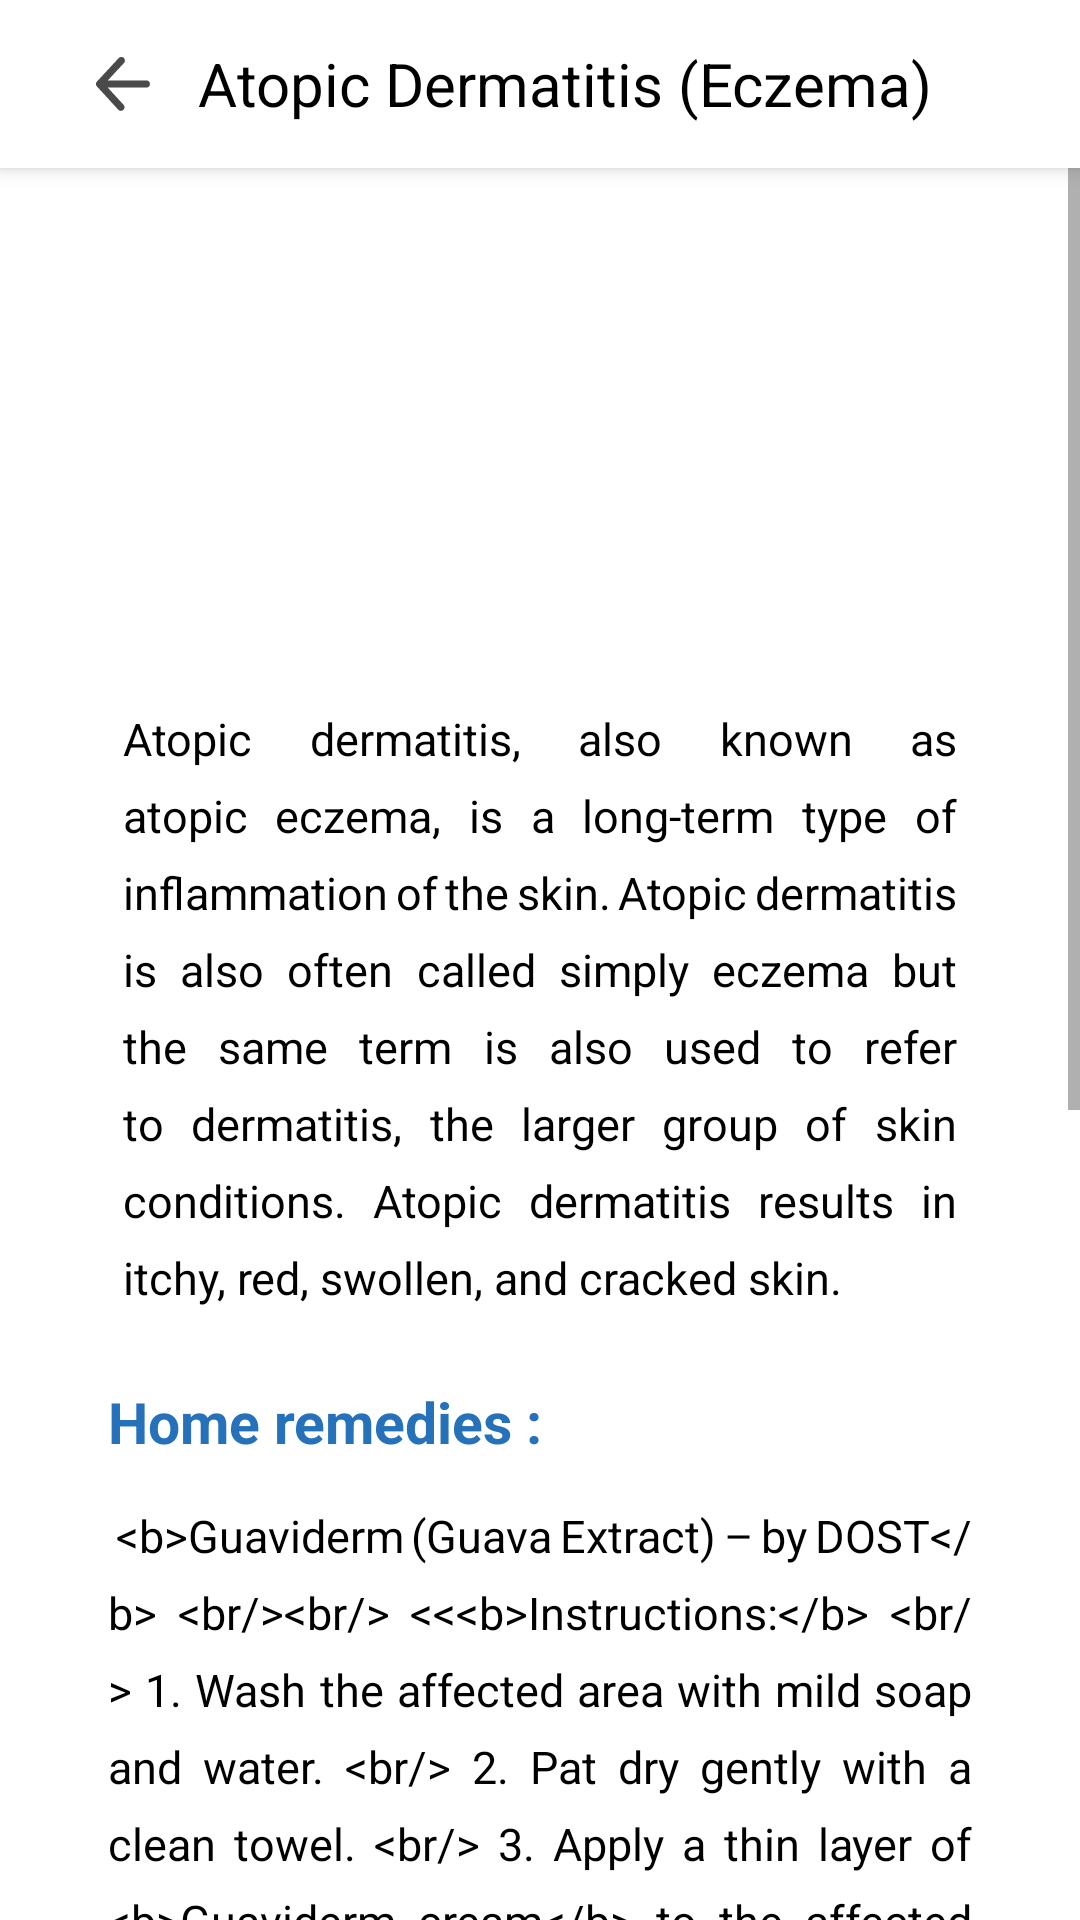

Screen size 1080x1920. Icon name, then its box in pixels as (x1, y1, x2, y2):
Back: (96, 57, 150, 111)
